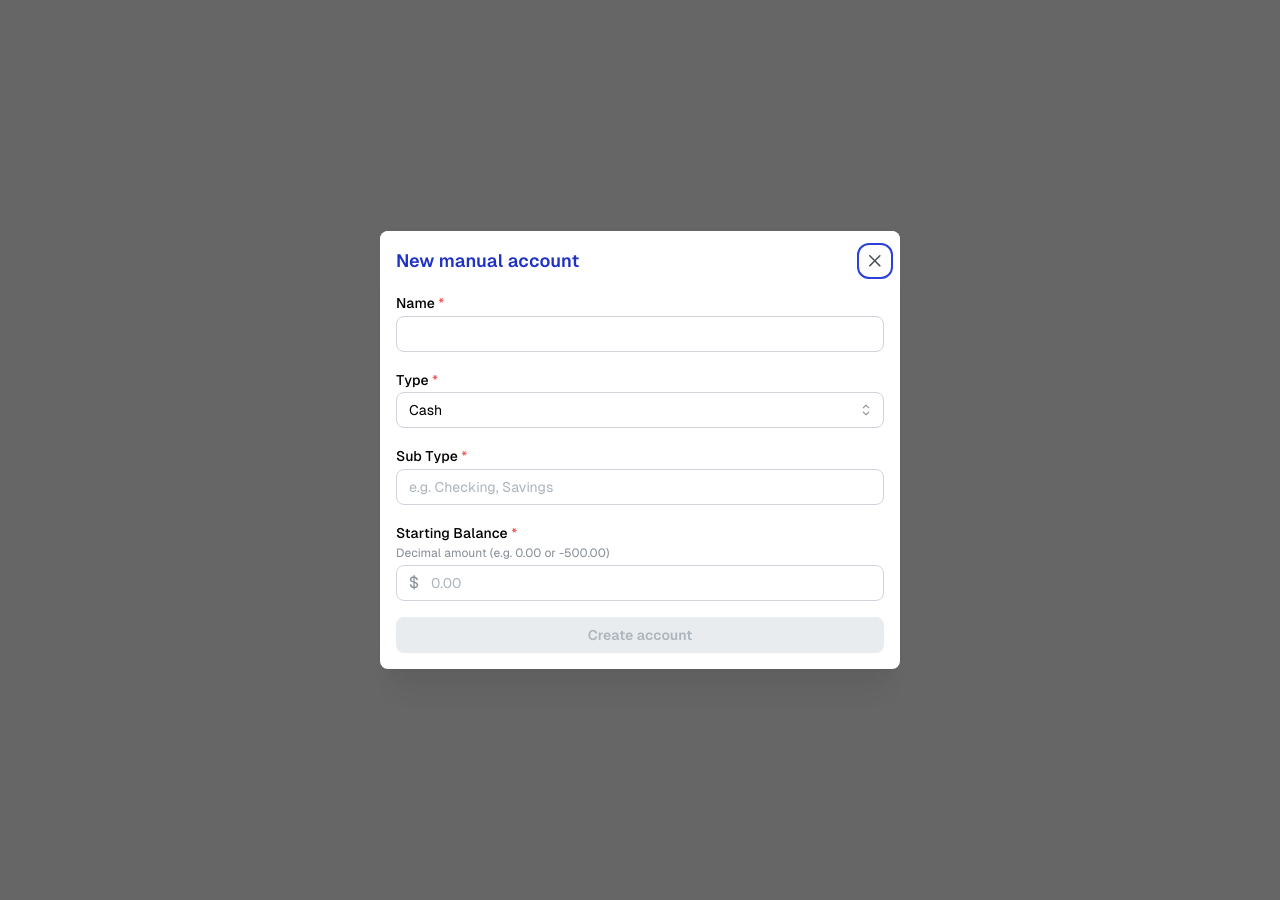
Scenario: CreateManualAccountModal › shows the server error and keeps the form open
Type "Dup" into the field labelled "Name *".
click(640, 334); type("Dup")  # box [396,316,884,352]
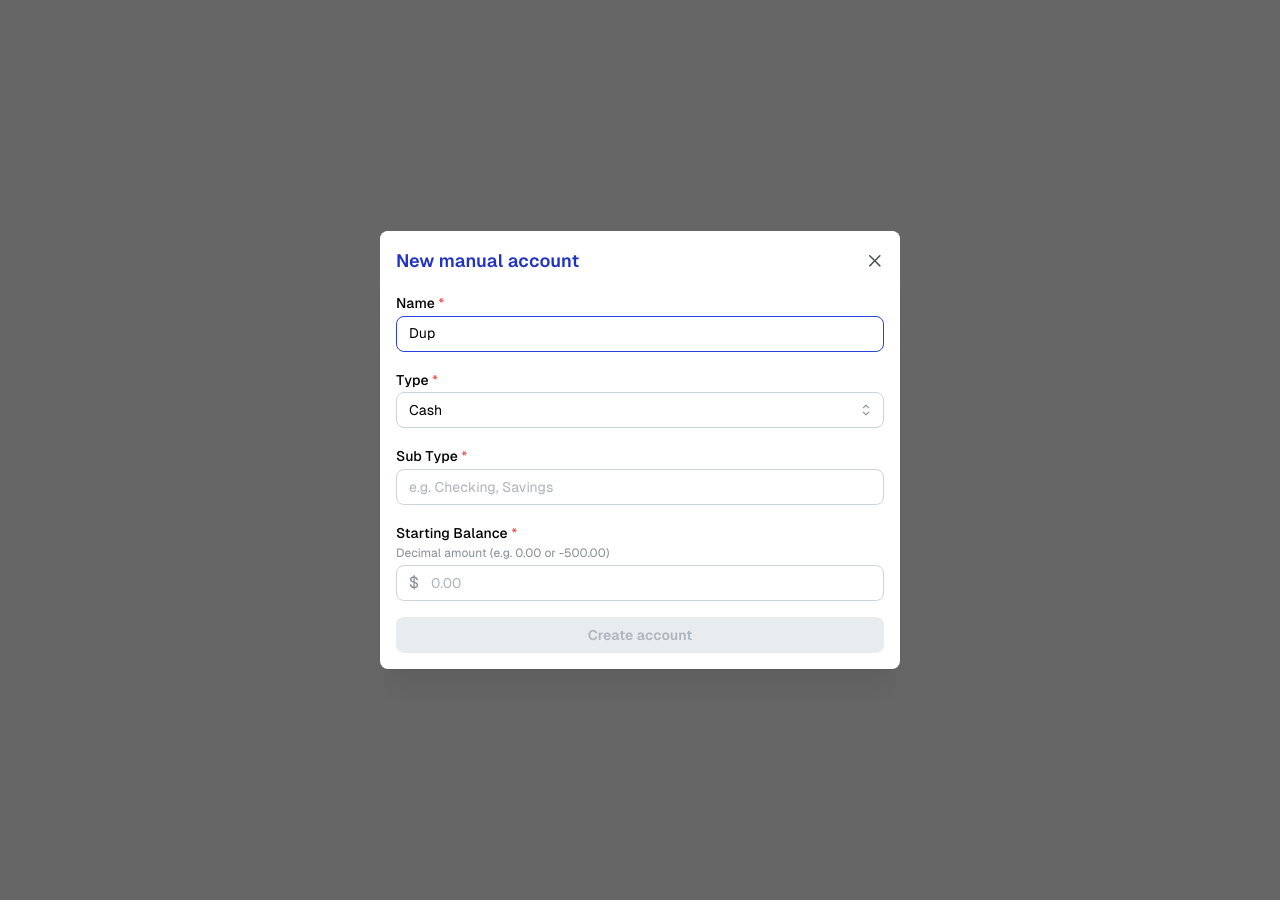
Type "Checking" into the field labelled "Sub Type *".
click(640, 487); type("Checking")  # box [396,469,884,505]
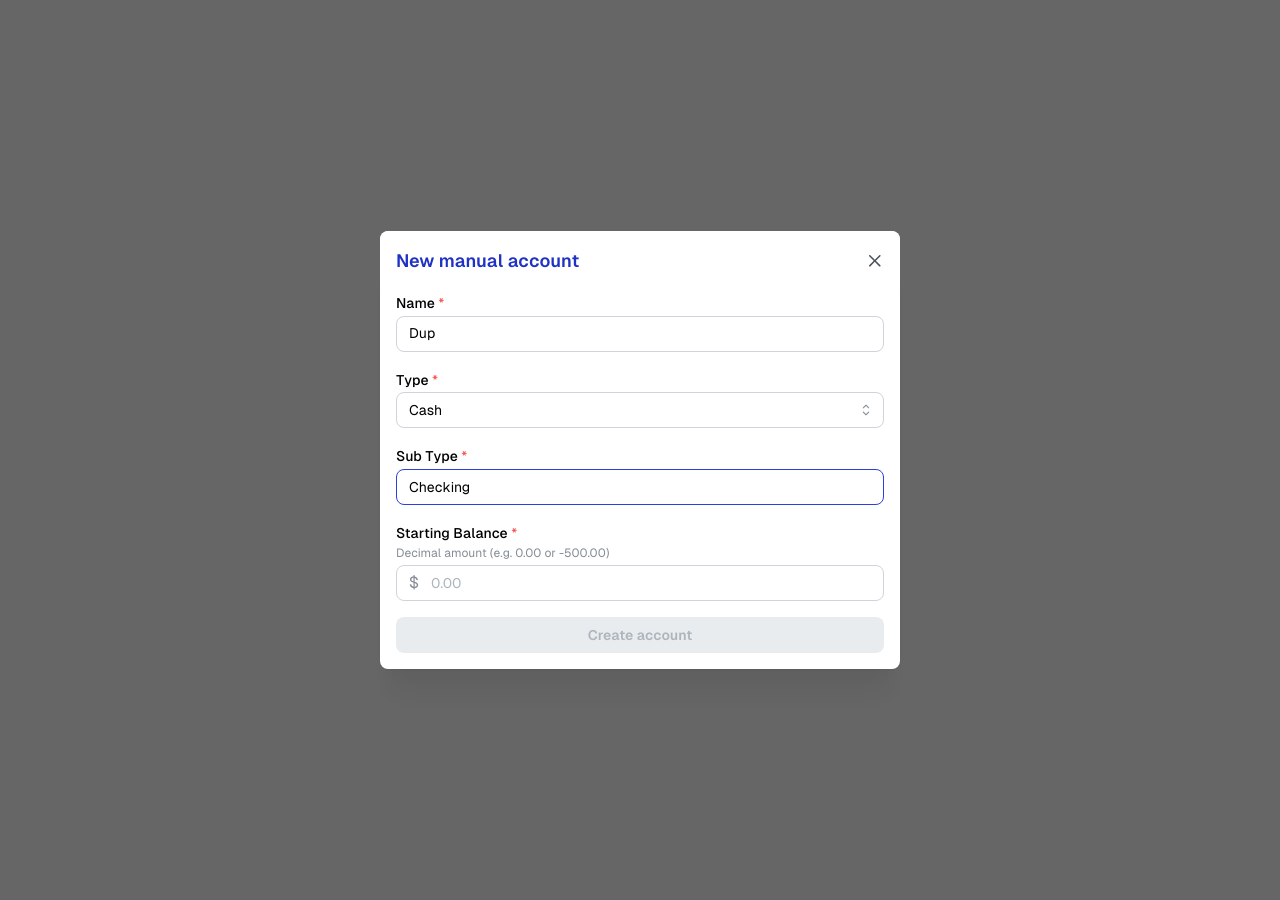
Type "1" into the field labelled "Starting Balance *".
click(640, 583); type("1")  # box [396,565,884,601]
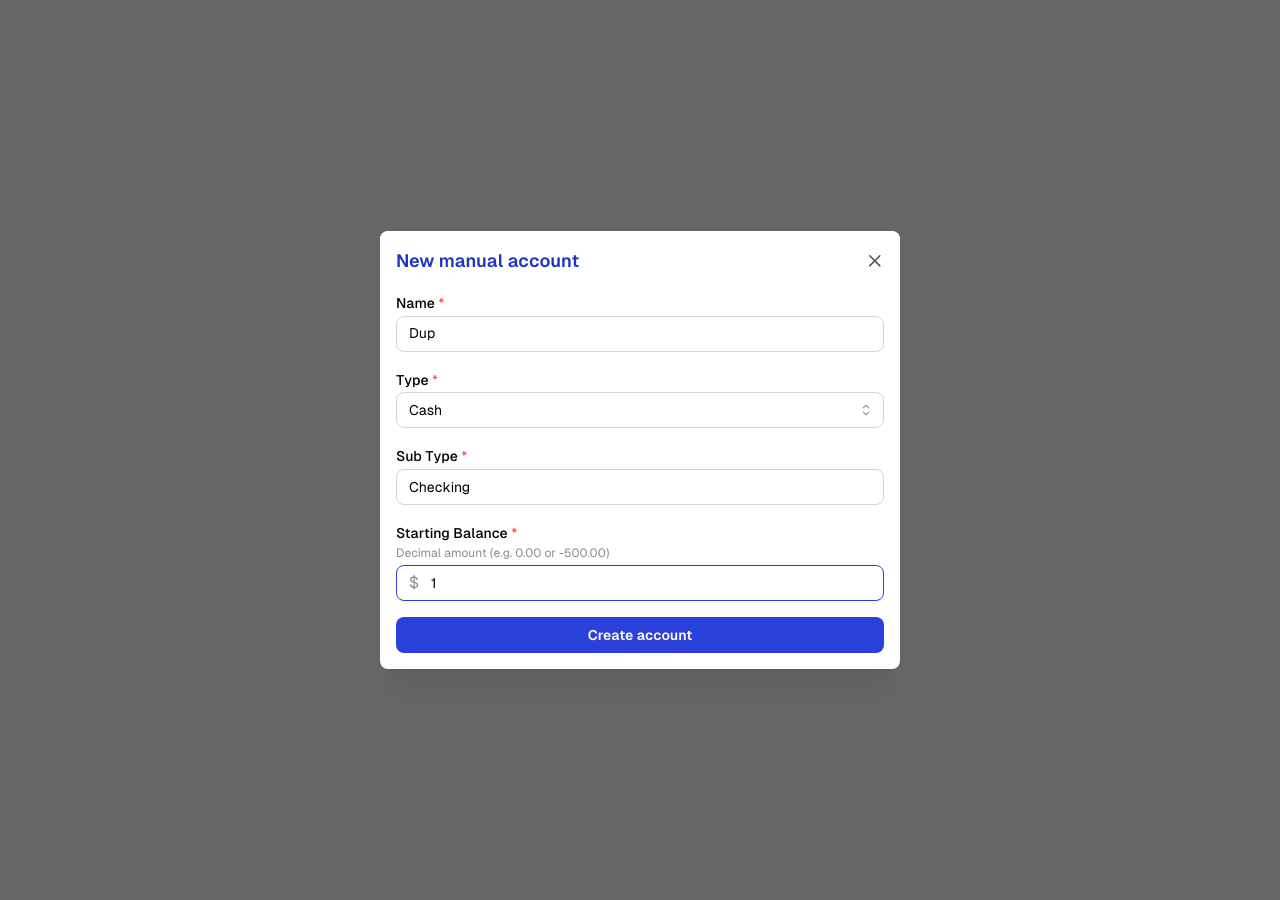
Click the button "Create account".
click(640, 635)  # box [396,617,884,653]
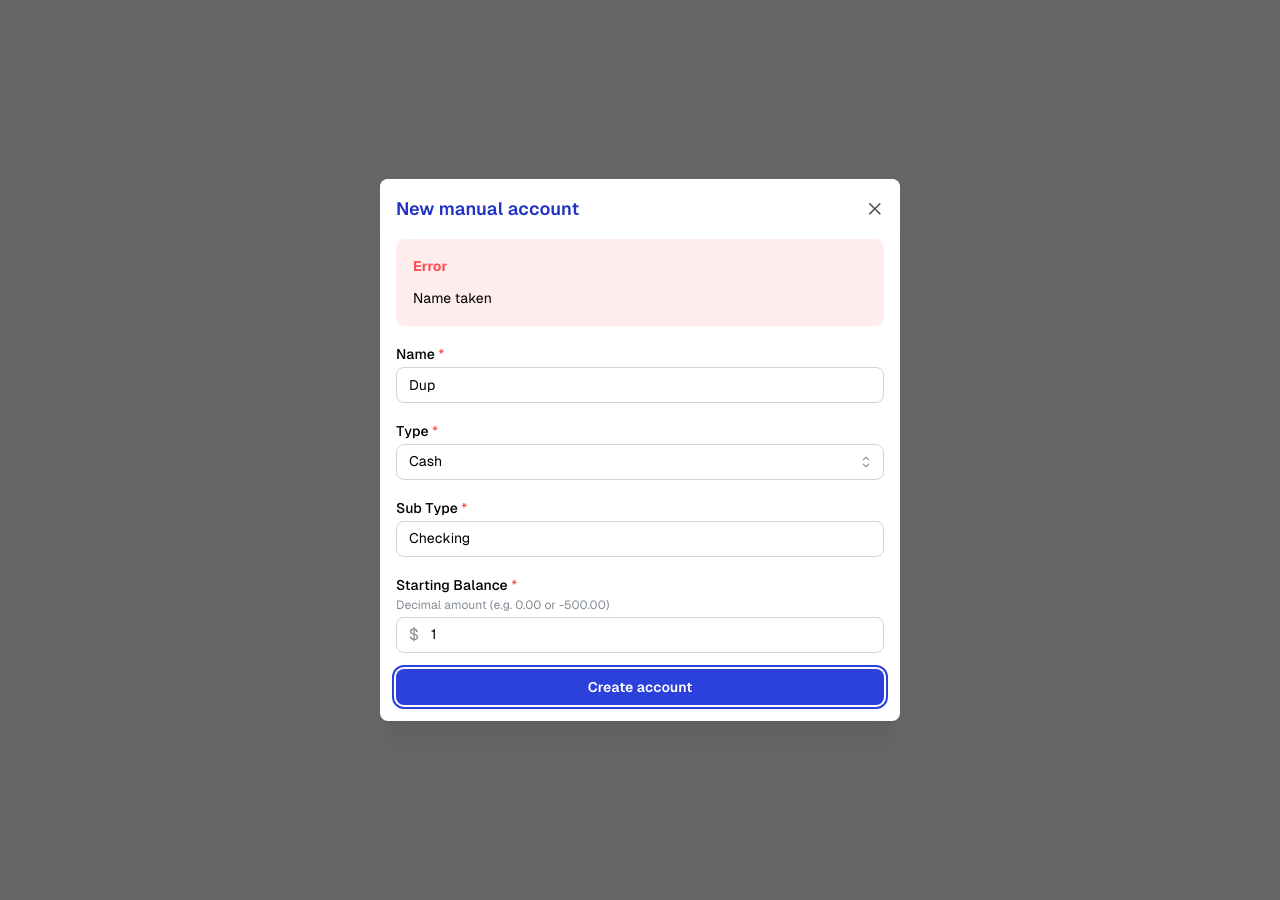
Expected: the text "Name taken" is shown, [413,290,492,306]
